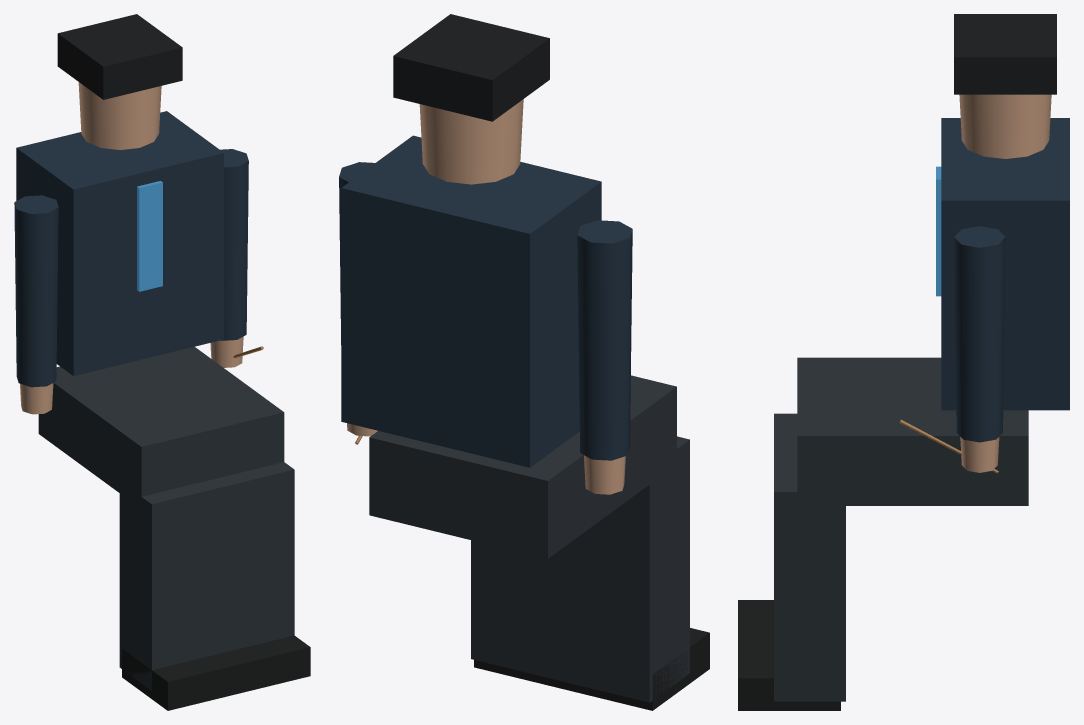
File: patient_office_placeholder.glb
3 renders of one model, left to right at view 1: azimuth 30°, elevation 25°; view 2: azimuth 150°, elevation 25°; view 3: azimuth 270°, elevation 25°, orthographic. The views are drawn at different scales.
Visible parts, largest first — view 1: Character_PatientOffice_Placeholder, PatientHead, PatientLeftArm, PatientRightArm; view 2: Character_PatientOffice_Placeholder, PatientHead, PatientLeftArm, PatientRightArm; view 3: Character_PatientOffice_Placeholder, PatientHead, PatientRightArm.
Part boxes in pixels (x1,y1,x2,y2): Character_PatientOffice_Placeholder: (16,111,310,710); PatientHead: (57,14,182,149); PatientLeftArm: (14,195,58,414); PatientRightArm: (210,149,263,367); Character_PatientOffice_Placeholder: (341,135,709,710); PatientHead: (393,14,549,184); PatientLeftArm: (577,220,632,494); PatientRightArm: (339,162,377,444); Character_PatientOffice_Placeholder: (738,118,1069,710); PatientHead: (954,14,1056,158); PatientRightArm: (899,226,1005,473).
Size of the model in its own units: 0.58 by 1.36 by 0.645.
